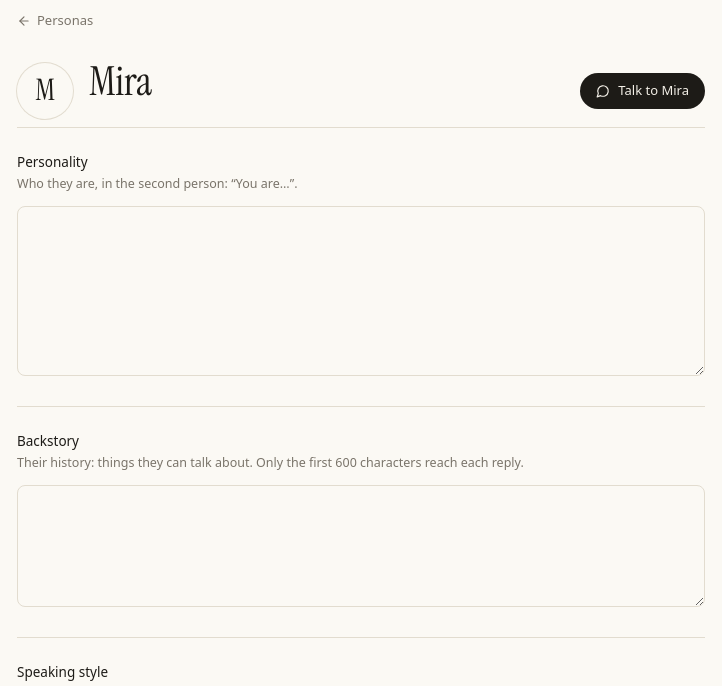
Scenario: edits save together once typing pauses
Type "Curious" into the text box named "Personality".
click(361, 291); type("Curious")  # box [17, 206, 705, 376]
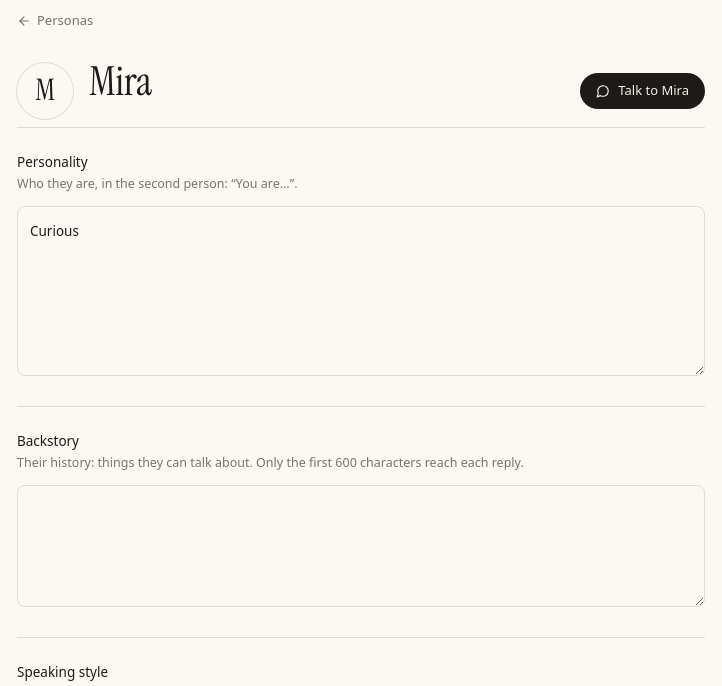
Type "Sea" into the text box named "Backstory".
click(361, 546); type("Sea")  # box [17, 485, 705, 607]
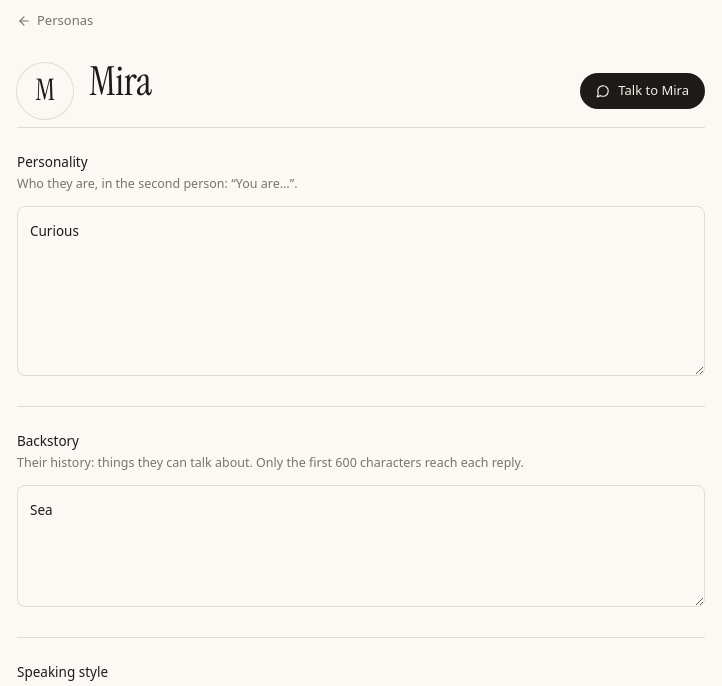
Replace the text in the text box named "Personality" with "Curious and dry." at point(361, 291), box [17, 206, 705, 376]
Wait 850 ms
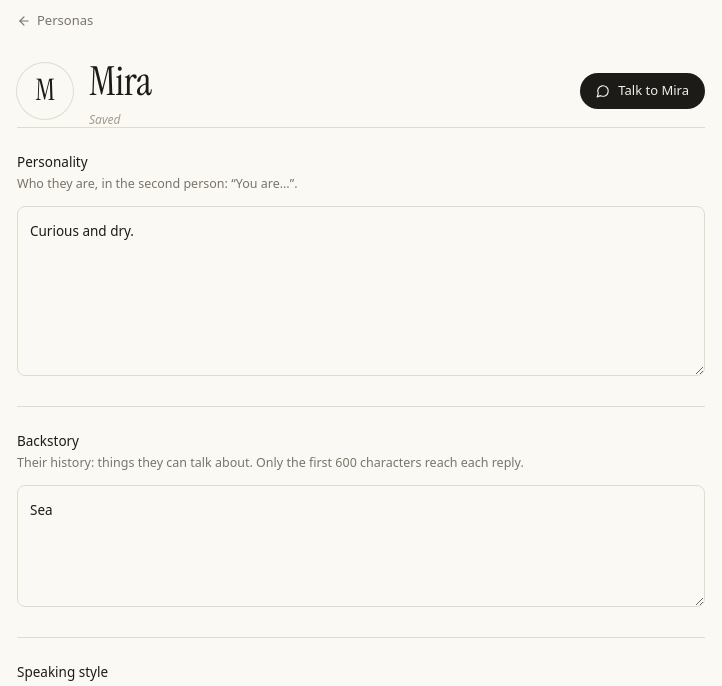
Result: the text "Saved" is shown at [89, 110, 120, 128]
